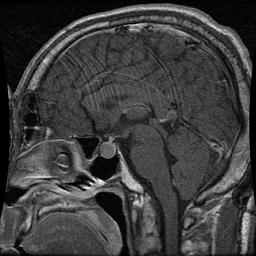Pituirity_tumour: (99, 141, 115, 158)
